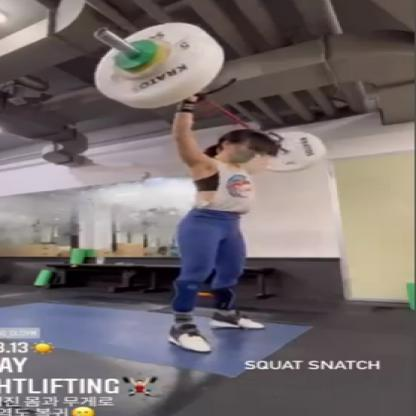Barbell: (85, 20, 231, 110)
